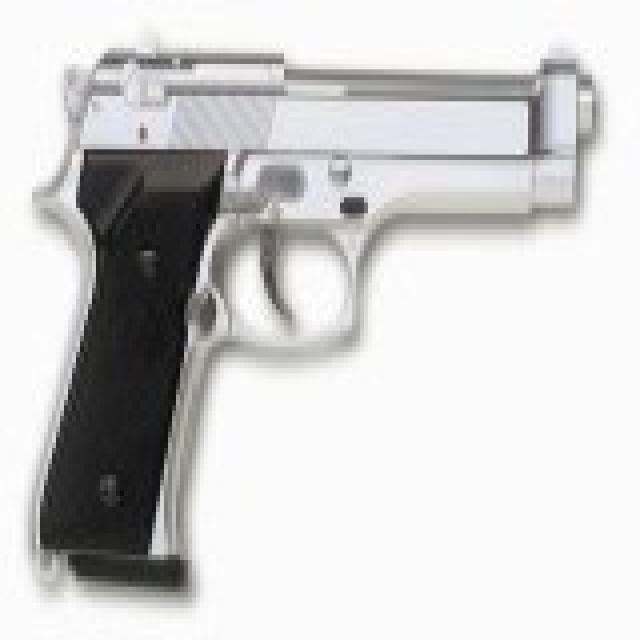Gun: (43, 46, 626, 582)
